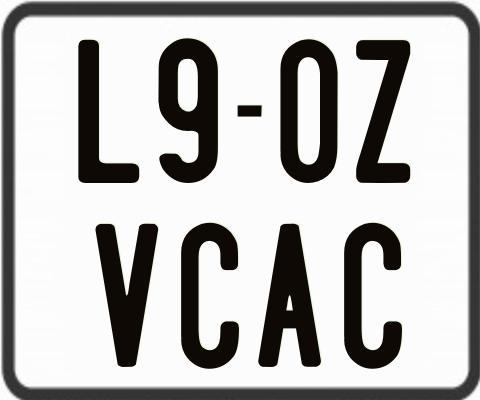0: (279, 36, 342, 183)
9: (156, 37, 221, 186)
A: (256, 223, 320, 369)
C: (342, 223, 405, 375), (180, 222, 238, 371)
L: (78, 40, 145, 185)
V: (95, 222, 161, 367)
Z: (354, 40, 409, 183)
